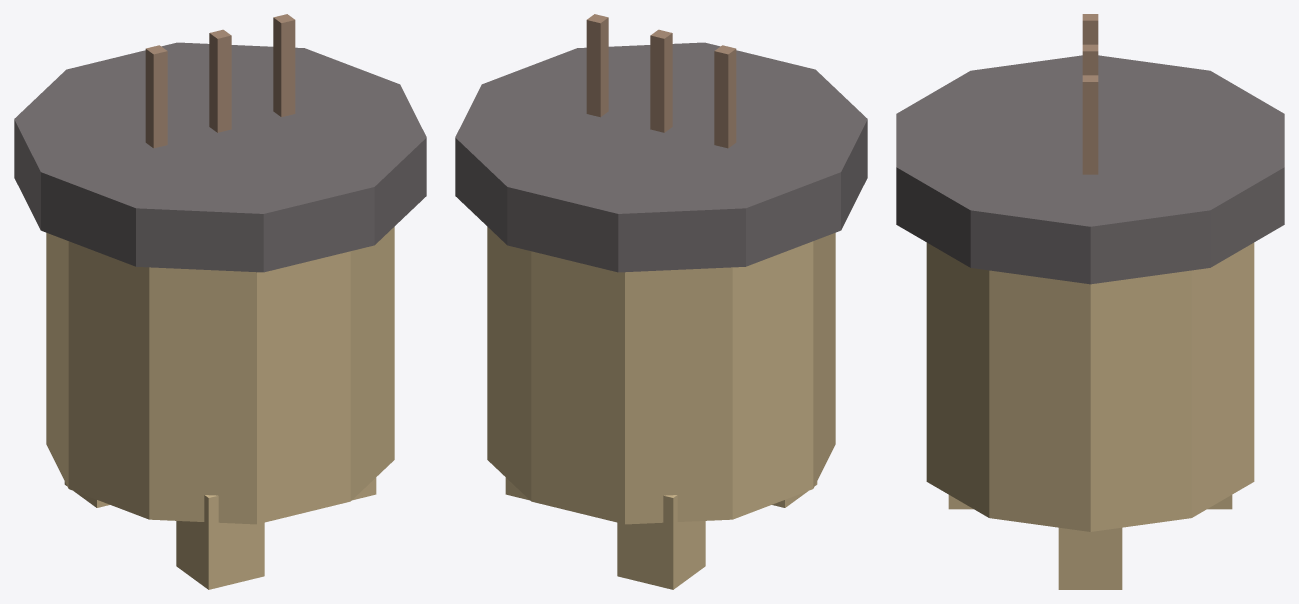
The model's file is bronze_incense_burner.glb.
3 views of the same model, side by side, from view 1: azimuth 30°, elevation 25°; view 2: azimuth 150°, elevation 25°; view 3: azimuth 270°, elevation 25° (orthographic).
Visible parts, largest first — view 1: cylinder_0, cylinder_1, box_3, box_6, box_5, box_7; view 2: cylinder_0, cylinder_1, box_4, box_6, box_5, box_7; view 3: cylinder_0, cylinder_1, box_2, box_7, box_6, box_5.
Boxes of the visible parts, bbox=[...] form: cylinder_0: bbox=[46, 227, 394, 524]; cylinder_1: bbox=[14, 42, 426, 272]; box_3: bbox=[176, 495, 264, 589]; box_6: bbox=[209, 29, 231, 132]; box_5: bbox=[145, 45, 167, 148]; box_7: bbox=[273, 14, 295, 117]; cylinder_0: bbox=[487, 227, 835, 524]; cylinder_1: bbox=[455, 42, 867, 272]; box_4: bbox=[617, 495, 705, 589]; box_6: bbox=[650, 29, 672, 132]; box_5: bbox=[714, 45, 736, 148]; box_7: bbox=[586, 14, 608, 117]; cylinder_0: bbox=[926, 242, 1254, 531]; cylinder_1: bbox=[896, 55, 1284, 284]; box_2: bbox=[1058, 527, 1122, 589]; box_7: bbox=[1082, 75, 1098, 174]; box_6: bbox=[1082, 44, 1098, 75]; box_5: bbox=[1082, 14, 1098, 44].
Bounding box in the file's own units: 0.9 × 1.15 × 0.856.
